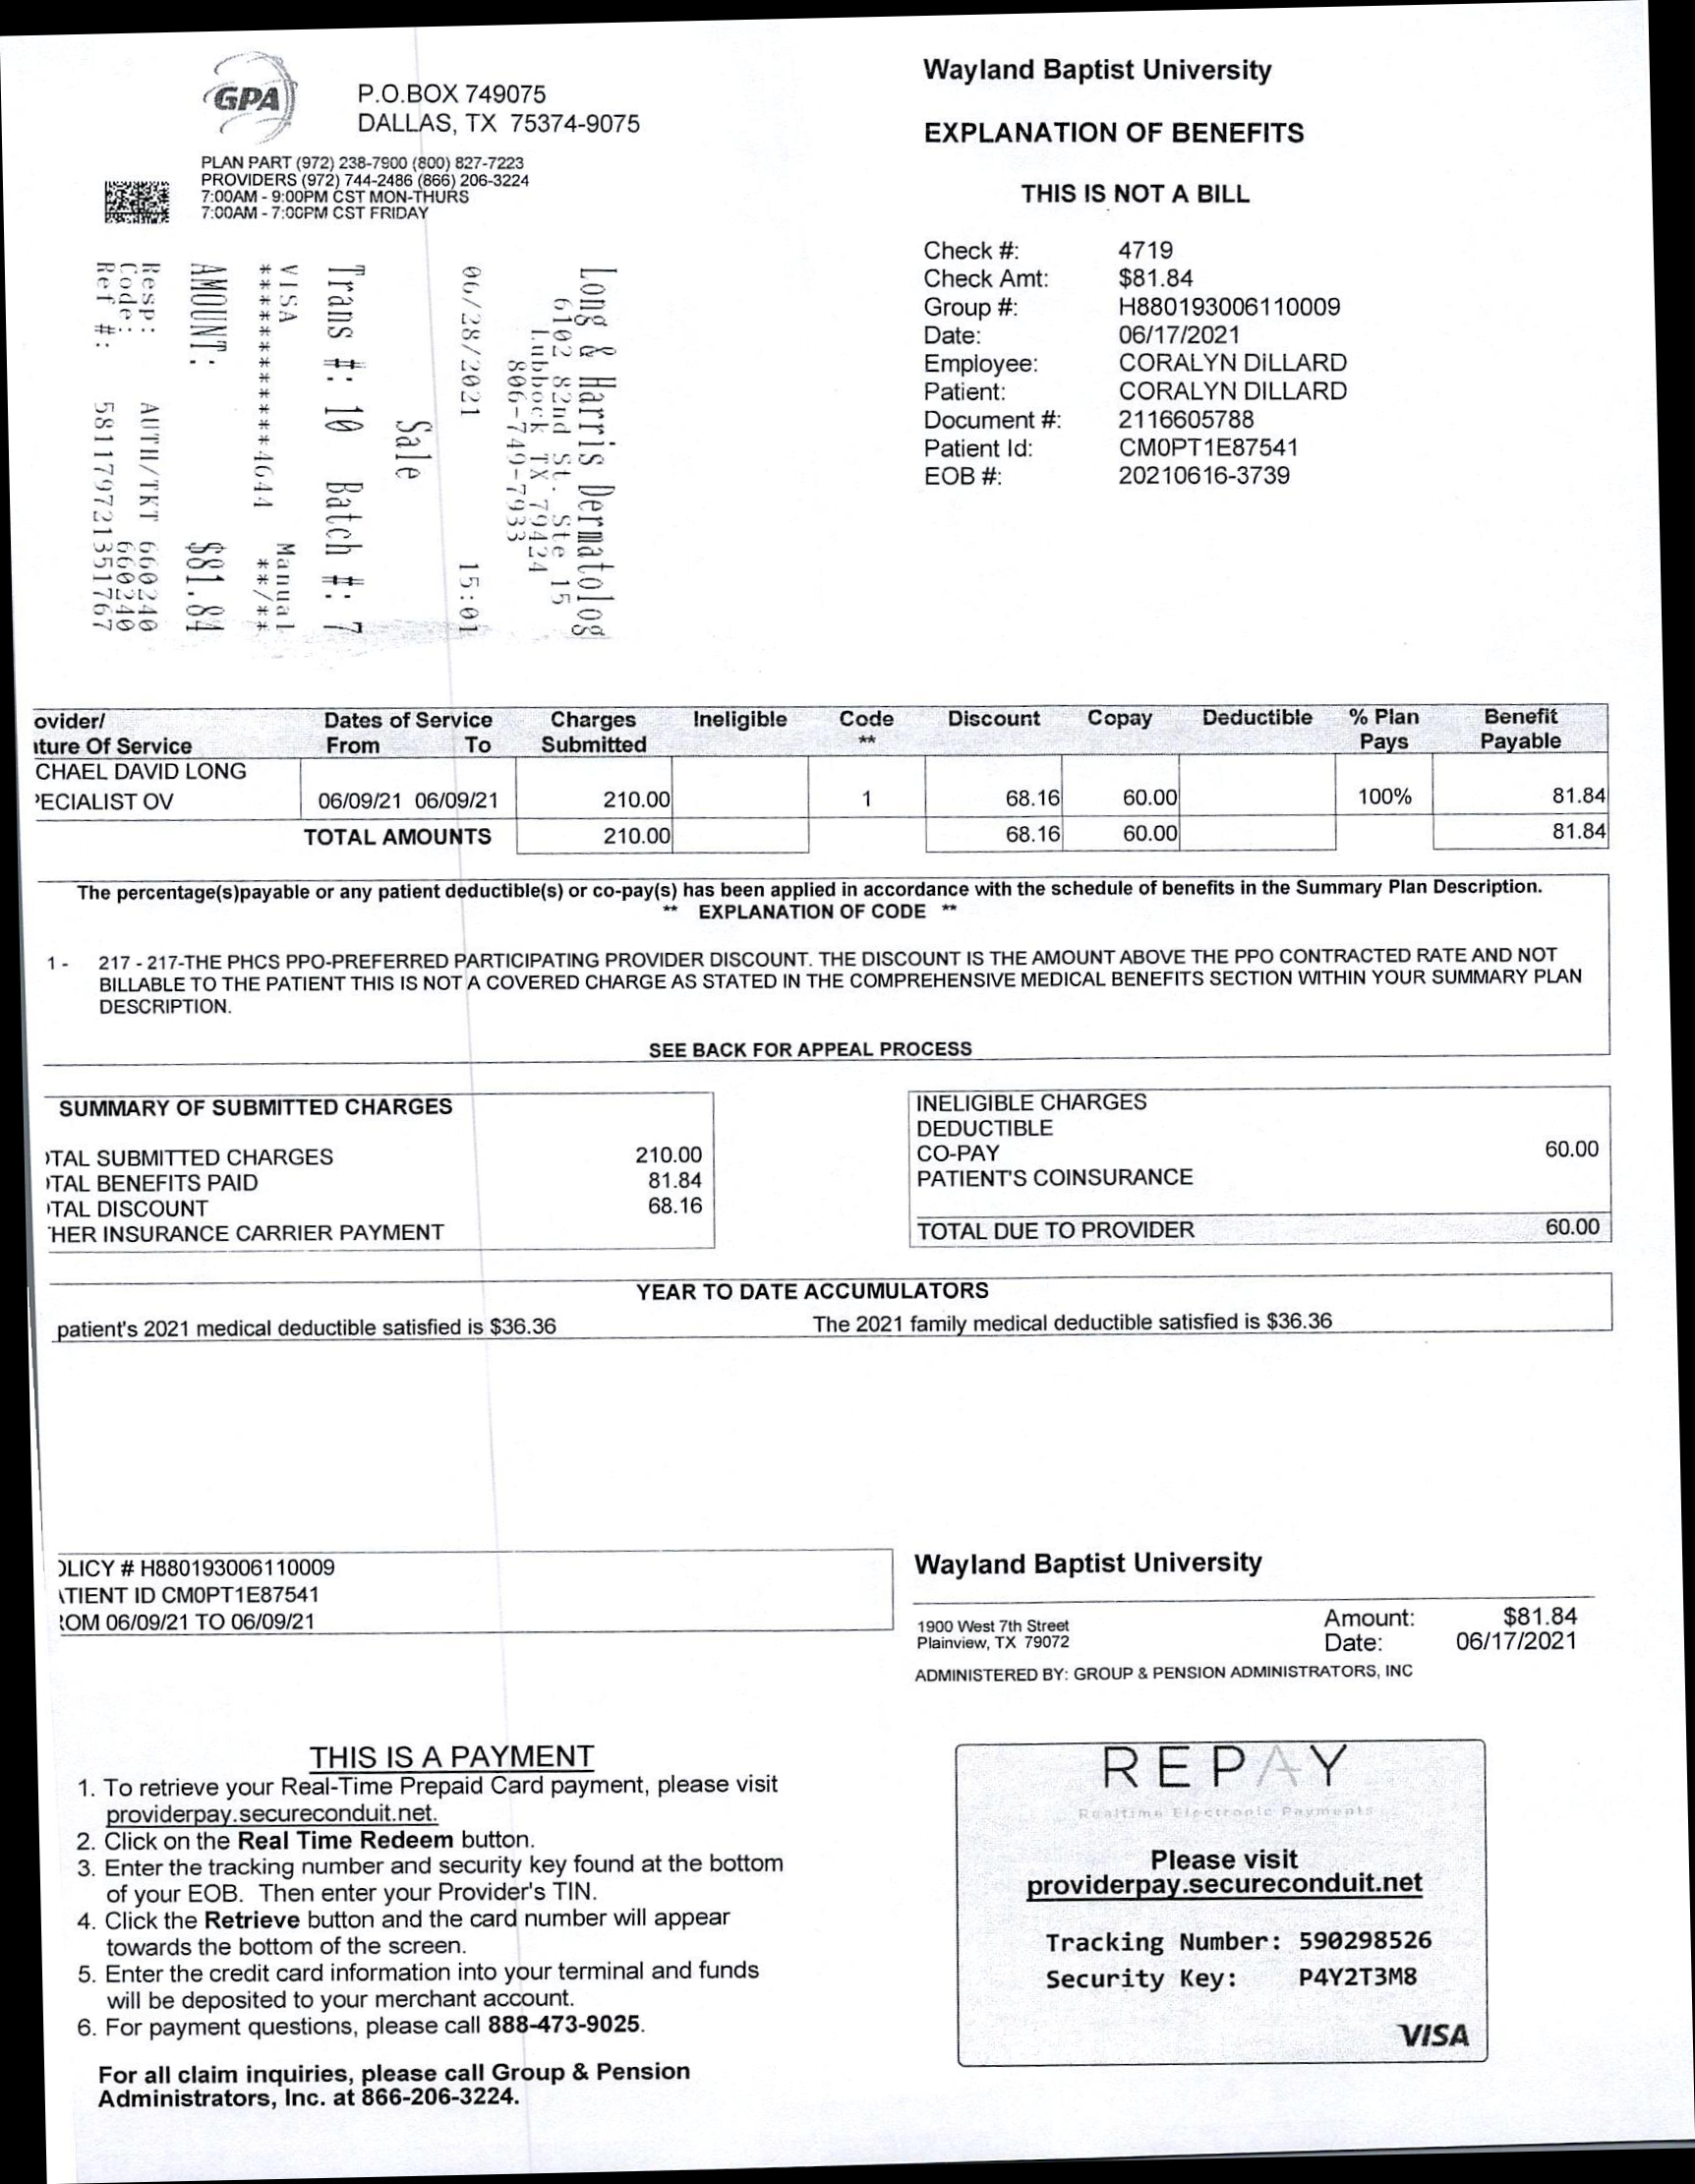data: (910, 222, 1378, 532), (895, 1076, 1626, 1262), (34, 1080, 725, 1269)
table: (18, 688, 1633, 863)
